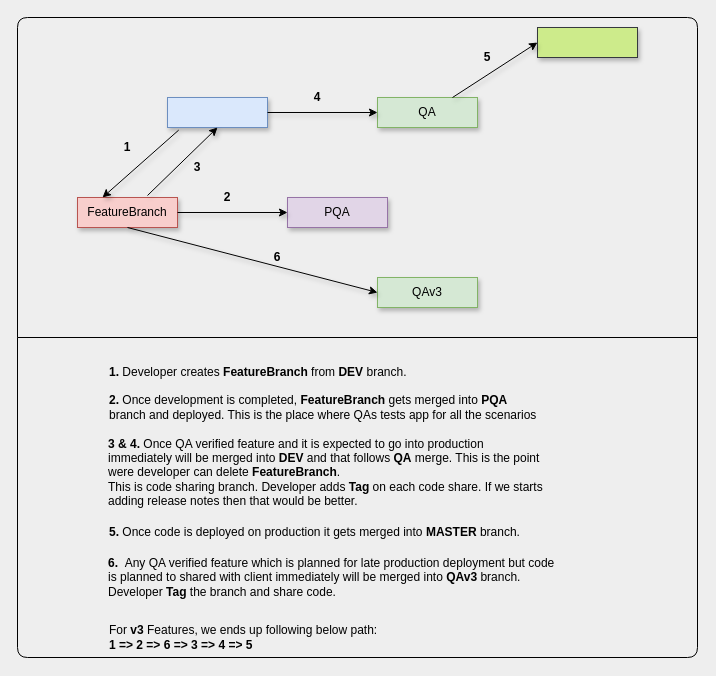
This 716x676 diagram has some shape labels left out. The shapes that lost their labels are listed below. From the top down, each one's centre as x and y in pixels, then its label:
At point 588,43: "MASTER".
At point 218,113: "DEV".
